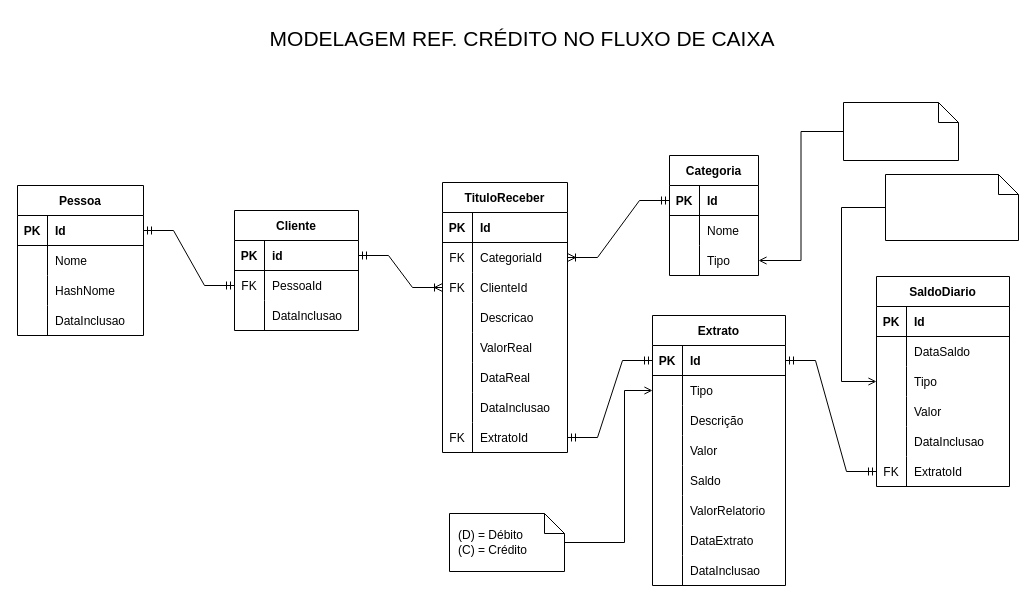
Image size: 1036x603. Some labels were removed from this diagram. The centre of each missing label's shape, as x and y in pixels:
"(E) = Entrada (S) = Saída" belongs at (x=900, y=131).
"(I) = Saldo Inicial (M) = Saldo Atual (F) = Saldo Final" belongs at (x=951, y=207).
